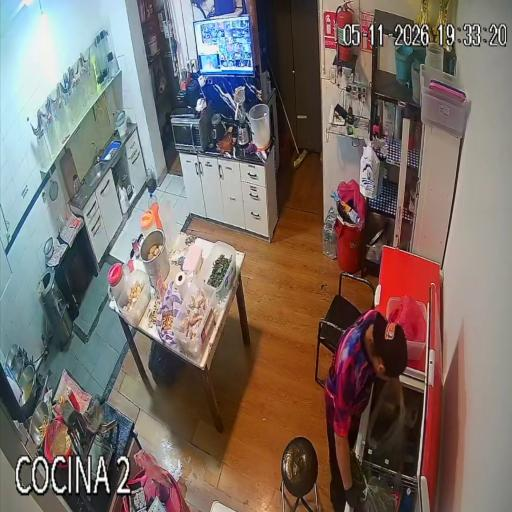Balde: (248, 103, 270, 150)
Envase Ketchup: (66, 388, 79, 411)
Envase Llajua: (59, 396, 65, 408)
Jarra1: (108, 263, 125, 300)
Jarra2: (141, 210, 156, 235)
Jarra3: (158, 192, 179, 250)
JarraLicuadora: (73, 174, 81, 195)
Microondas: (171, 106, 212, 151)
Persona1: (325, 310, 407, 510)
Taper: (199, 241, 236, 302)
Taper2: (172, 282, 216, 359)
Taper3: (116, 270, 151, 326)
Taper4: (407, 339, 426, 360), (387, 297, 402, 316), (416, 301, 427, 321)
olla1: (141, 230, 169, 287)
